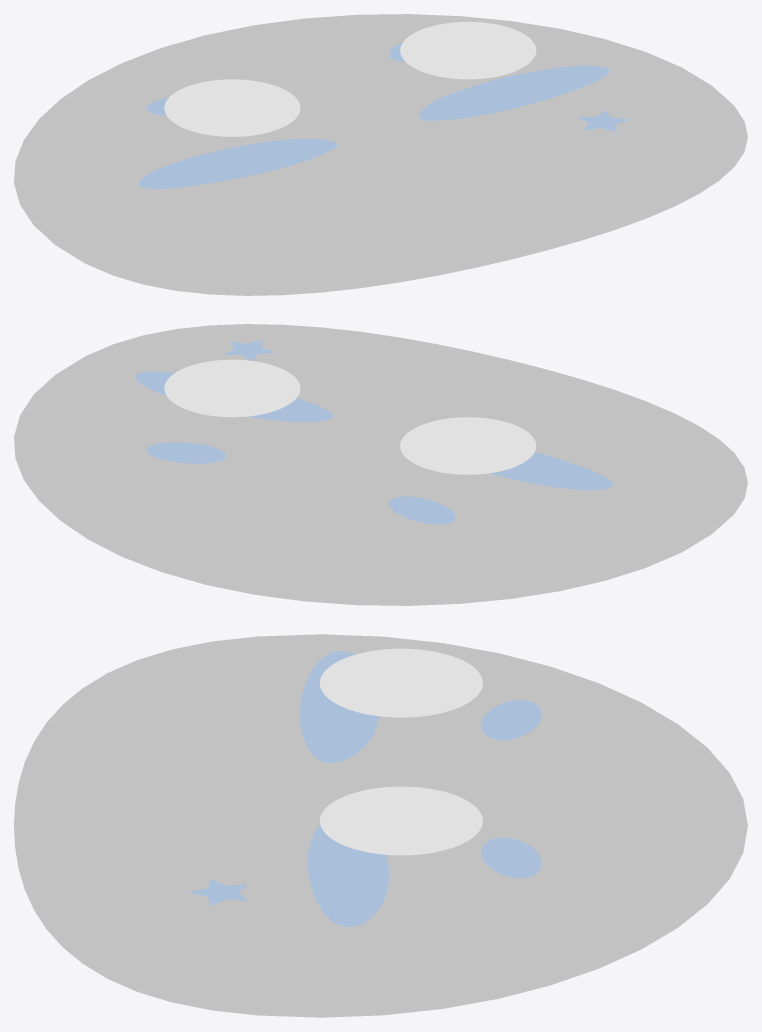
Rendered from nixi.glb.
3 renders of one model, top to bottom at view 1: azimuth 30°, elevation 25°; view 2: azimuth 150°, elevation 25°; view 3: azimuth 270°, elevation 25°, orthographic. The views are drawn at different scales.
Parts seen in each view (by area): view 1: Body, PupilL, PupilR.001, EyeL, EyeR, Start; view 2: Body, PupilR.001, PupilL, EyeL, EyeR, eyebrowR, eyebrowL, Start; view 3: Body, PupilR.001, PupilL, EyeR, EyeL, eyebrowR, eyebrowL, Start.
Part boxes in pixels (x1,y1,x2,y2): Body: [14, 14, 747, 295]; PupilL: [164, 79, 300, 136]; PupilR.001: [400, 21, 536, 79]; EyeL: [138, 138, 337, 188]; EyeR: [419, 65, 609, 120]; Start: [577, 110, 628, 131]; Body: [14, 324, 747, 605]; PupilR.001: [164, 359, 300, 417]; PupilL: [400, 417, 536, 474]; EyeL: [490, 452, 612, 490]; EyeR: [135, 371, 333, 421]; eyebrowR: [146, 442, 226, 463]; eyebrowL: [389, 496, 455, 524]; Start: [223, 339, 275, 360]; Body: [14, 634, 747, 1017]; PupilR.001: [320, 786, 482, 855]; PupilL: [320, 648, 482, 717]; EyeR: [307, 824, 388, 926]; EyeL: [299, 651, 379, 763]; eyebrowR: [481, 837, 541, 878]; eyebrowL: [481, 700, 541, 740]; Start: [188, 879, 247, 905].
Size of the model in its own units: 2.22 by 0.2 by 1.8.
